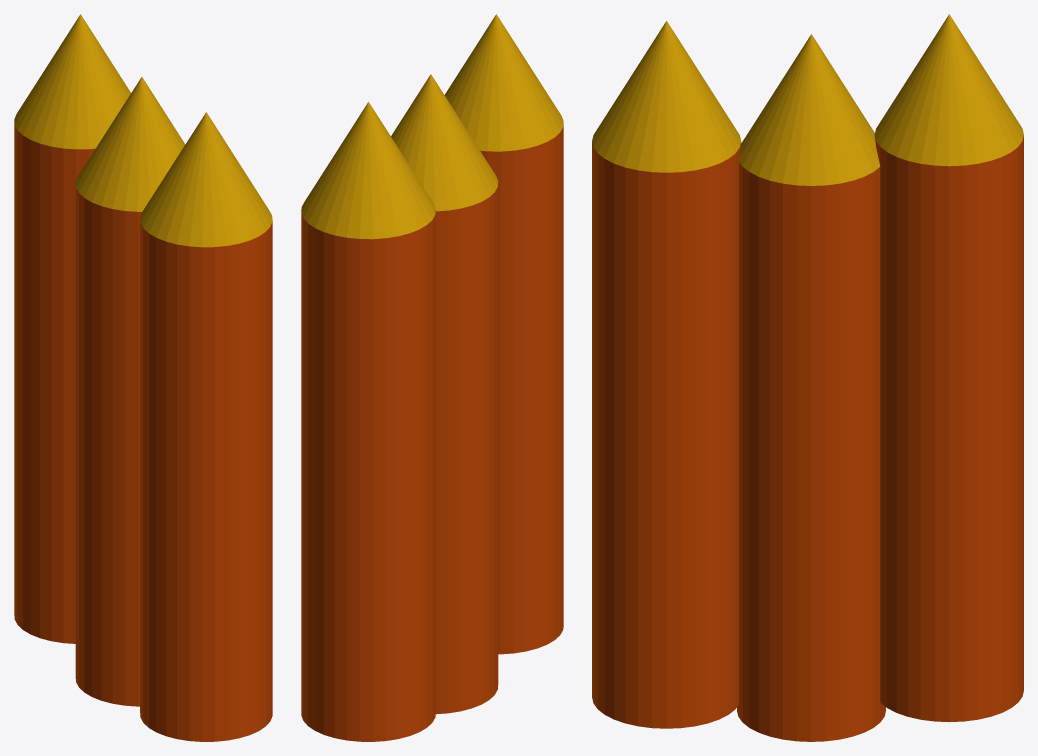
The model's file is Barrier.fbx.
3 views of the same model, side by side, from view 1: azimuth 30°, elevation 25°; view 2: azimuth 150°, elevation 25°; view 3: azimuth 270°, elevation 25° (orthographic). The views are drawn at different scales.
Visible parts, largest first — view 1: Cylinder; view 2: Cylinder; view 3: Cylinder.
Part boxes in pixels (bbox=[...]): Cylinder: bbox=[14, 14, 272, 741]; Cylinder: bbox=[301, 14, 563, 741]; Cylinder: bbox=[592, 14, 1023, 741].
Bounding box in the file's own units: 2 × 10.29 × 5.79.
